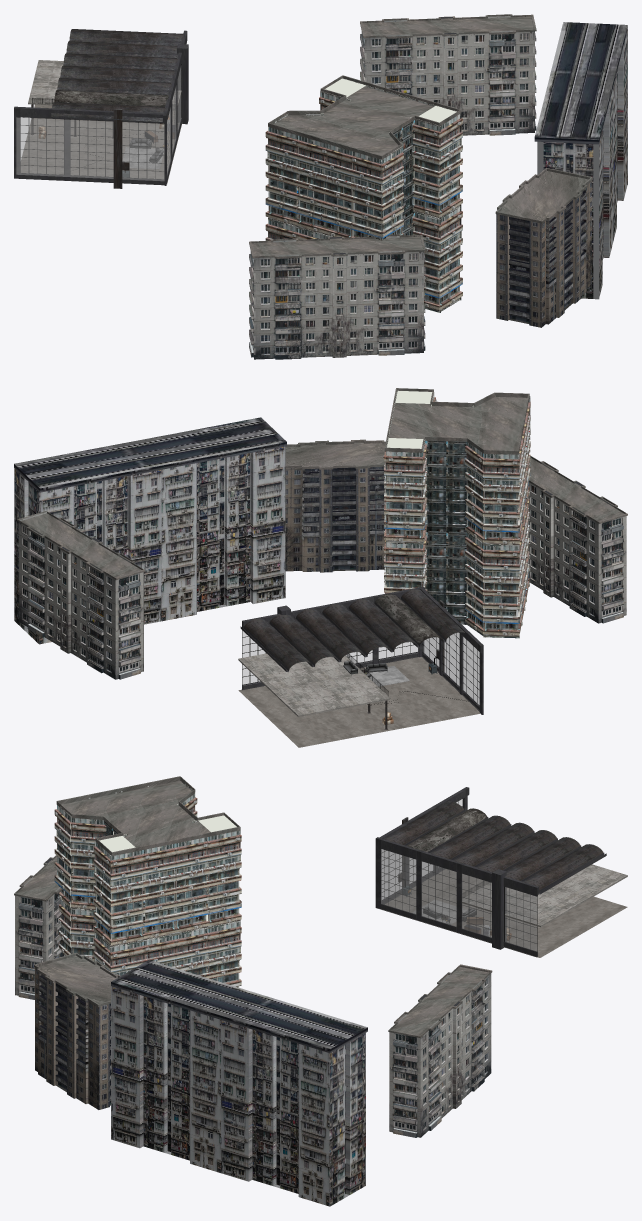
Rendered from Buildings.glb.
3 renders of one model, top to bottom at view 1: azimuth 30°, elevation 25°; view 2: azimuth 150°, elevation 25°; view 3: azimuth 270°, elevation 25°, orthographic.
Visible parts, largest first — view 1: Cube_019, Cube_009, Cube_022, Cube_020, Cube_021, Plane_004, Plane, Cube_007, Cylinder_001, Cylinder_006, Cylinder_003, Cylinder_004 (+8 smaller); view 2: Cube_020, Cube_019, Cube_022, Cube_021, Cube_009, Plane, Cube_010, Plane_004, Cube_007, Cube, Cylinder_006, Cylinder_001 (+6 smaller); view 3: Cube_020, Cube_019, Cube_022, Cube_021, Plane_004, Cube, Plane, Cube_009, Cube_010, Cylinder_006, Cylinder_001, Cylinder_002 (+6 smaller).
Part boxes in pixels (x1,y1,x2,y2): Cube_019: [265, 75, 462, 312]; Cube_009: [249, 234, 425, 359]; Cube_022: [360, 14, 536, 135]; Cube_020: [534, 22, 627, 299]; Cube_021: [495, 167, 592, 327]; Plane_004: [16, 43, 186, 181]; Plane: [20, 104, 182, 183]; Cube_007: [14, 106, 164, 185]; Cylinder_001: [54, 90, 168, 106]; Cylinder_006: [69, 29, 183, 45]; Cylinder_003: [60, 65, 174, 82]; Cylinder_004: [63, 53, 177, 70]; Cube_020: [14, 417, 286, 644]; Cube_019: [383, 388, 530, 638]; Cube_022: [17, 511, 144, 679]; Cube_021: [285, 439, 385, 572]; Cube_009: [516, 456, 627, 623]; Plane: [238, 657, 480, 747]; Cube_010: [238, 653, 390, 716]; Plane_004: [242, 630, 479, 704]; Cube_007: [420, 587, 483, 714]; Cube: [242, 586, 425, 690]; Cylinder_006: [243, 618, 312, 670]; Cylinder_001: [375, 594, 443, 646]; Cube_020: [111, 960, 367, 1206]; Cube_019: [54, 776, 241, 987]; Cube_022: [388, 964, 492, 1137]; Cube_021: [34, 952, 120, 1109]; Plane_004: [381, 799, 537, 951]; Cube: [375, 837, 539, 957]; Plane: [378, 869, 627, 957]; Cube_009: [14, 855, 62, 999]; Cube_010: [462, 864, 627, 927]; Cylinder_006: [522, 844, 603, 892]; Cylinder_001: [406, 808, 487, 852]; Cylinder_002: [429, 815, 510, 859].
Size of the model in its own units: 76.76 by 30 by 75.74.
Materials: 22 (20 with a texture image).
